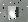person: (9, 7, 17, 20), (18, 8, 23, 18)
